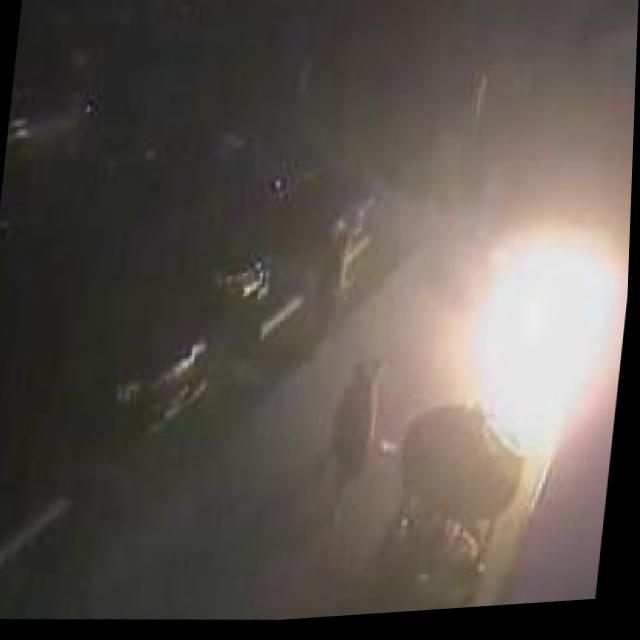fire: (447, 214, 633, 486)
